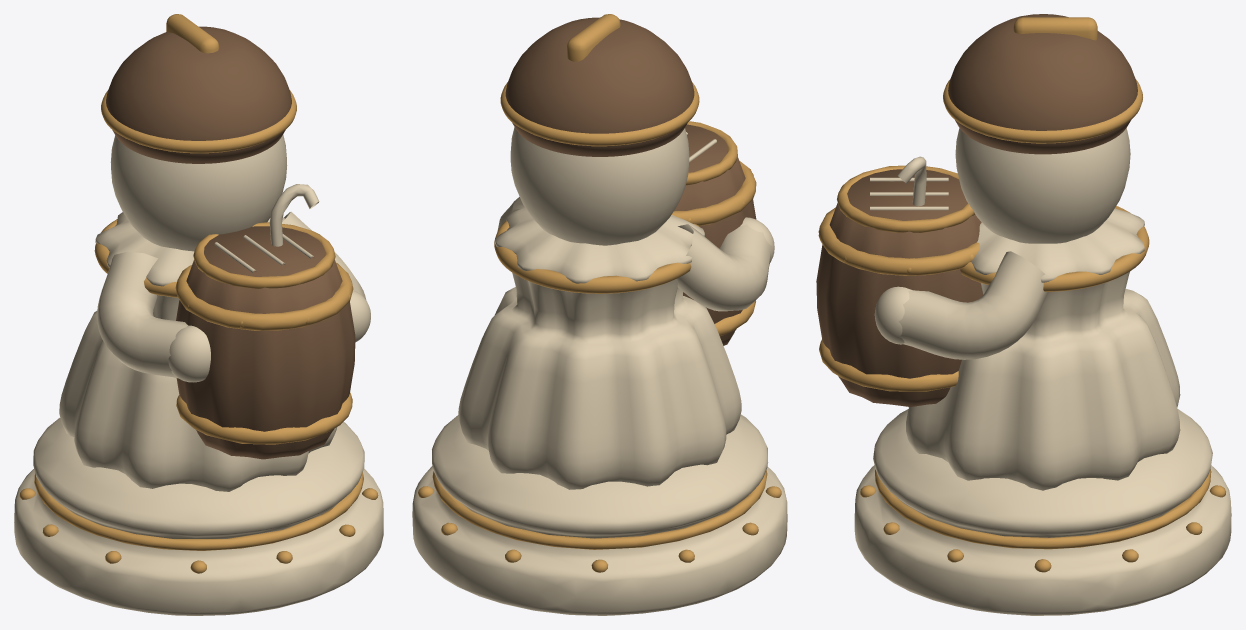
Rendered from bomber.glb.
The picture shows the model from 3 angles, left to right: view 1: azimuth 30°, elevation 25°; view 2: azimuth 150°, elevation 25°; view 3: azimuth 270°, elevation 25°; orthographic projection. The views are drawn at different scales.
Visible parts, largest first — view 1: PIECE_PowderPawn_Sculpture, PIECE_PowderPawn_Base; view 2: PIECE_PowderPawn_Sculpture, PIECE_PowderPawn_Base; view 3: PIECE_PowderPawn_Sculpture, PIECE_PowderPawn_Base.
Part boxes in pixels (x1,y1,x2,y2): PIECE_PowderPawn_Sculpture: (59, 14, 370, 491); PIECE_PowderPawn_Base: (14, 418, 383, 615); PIECE_PowderPawn_Sculpture: (458, 14, 774, 489); PIECE_PowderPawn_Base: (412, 414, 787, 615); PIECE_PowderPawn_Sculpture: (816, 14, 1180, 490); PIECE_PowderPawn_Base: (854, 409, 1231, 615).
Bounding box in the file's own units: 0.719 × 1.1 × 0.7917.
